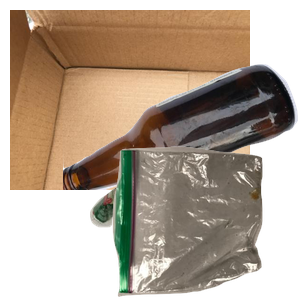cardboard: (10, 10, 250, 190)
glass: (63, 62, 300, 242)
plastic: (88, 182, 242, 300)
trash: (110, 144, 300, 300)
